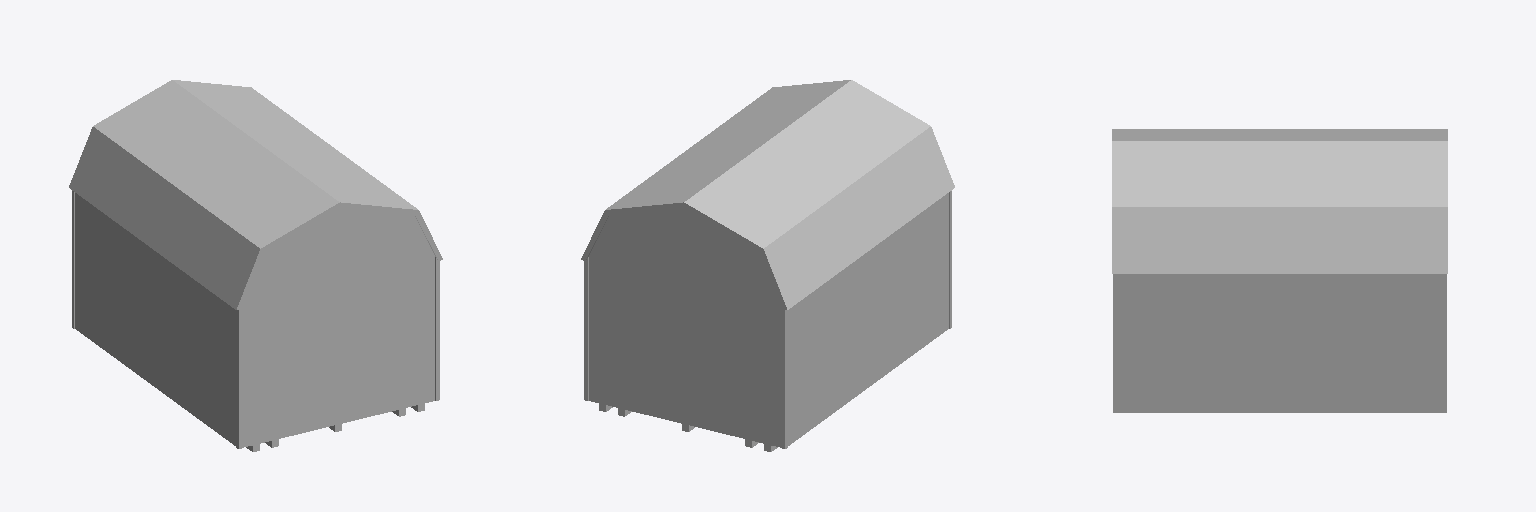
The model's file is Dutch Barn_10x14.obj.
The picture shows the model from 3 angles: view 1: azimuth 30°, elevation 25°; view 2: azimuth 150°, elevation 25°; view 3: azimuth 270°, elevation 25°; orthographic projection.
Parts seen in each view (by area): view 1: Dutch Barn_10x14.obj; view 2: Dutch Barn_10x14.obj; view 3: Dutch Barn_10x14.obj.
Boxes of the visible parts, x1=… form: Dutch Barn_10x14.obj: x1=69, y1=80, x2=442, y2=451; Dutch Barn_10x14.obj: x1=581, y1=80, x2=954, y2=451; Dutch Barn_10x14.obj: x1=1112, y1=129, x2=1447, y2=412.
Bounding box in the file's own units: 3.08 × 3.27 × 4.32.